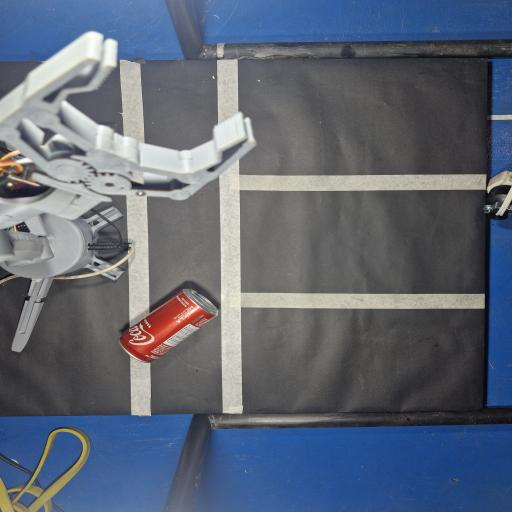lata: (120, 289, 218, 362)
